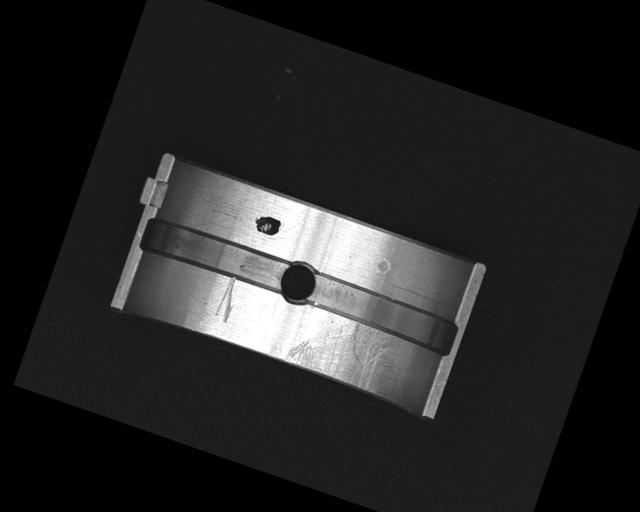blot: (250, 210, 283, 238)
bruise: (374, 256, 393, 276)
gap: (302, 270, 462, 359), (138, 213, 289, 295)
hole: (274, 255, 322, 309)
nick: (212, 273, 244, 323)
scratch: (283, 302, 399, 397)
